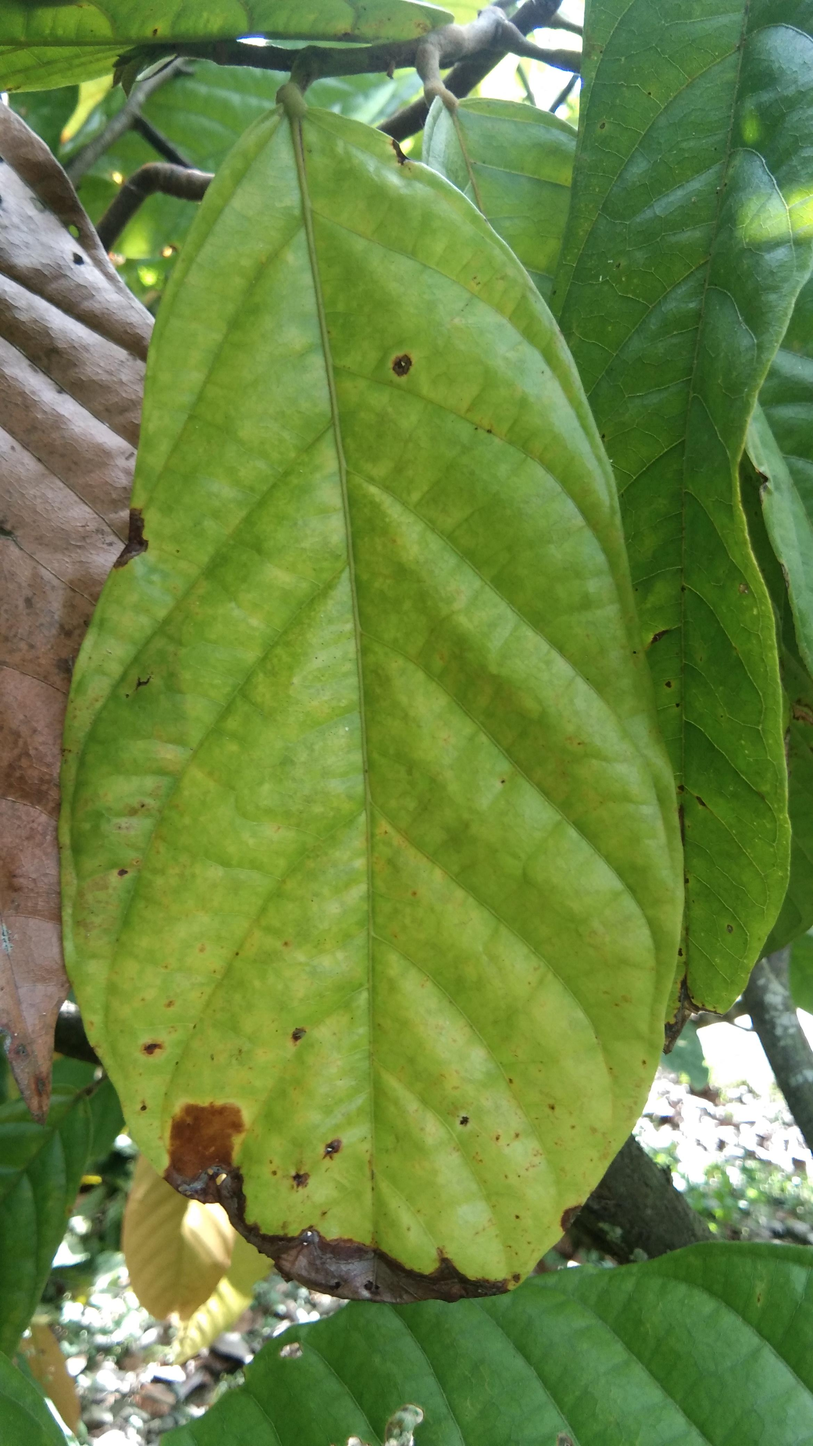deficiencia_potasio: (54, 71, 705, 1311)
